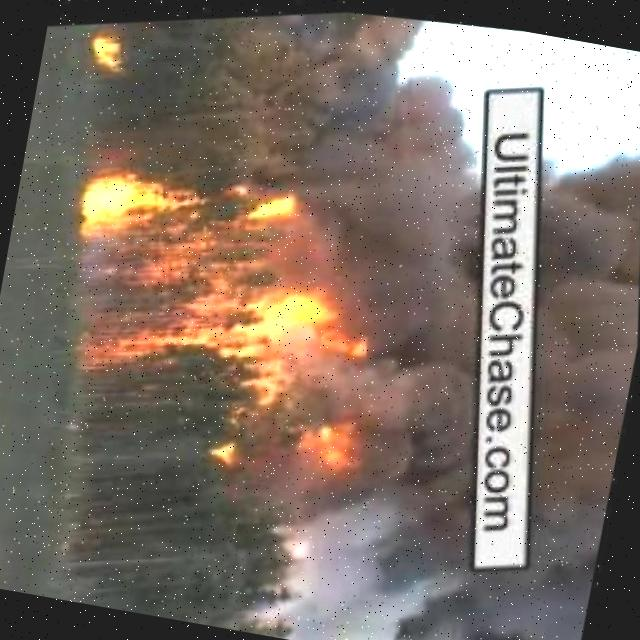fire: (42, 106, 346, 398), (240, 388, 377, 495), (84, 11, 143, 73)
